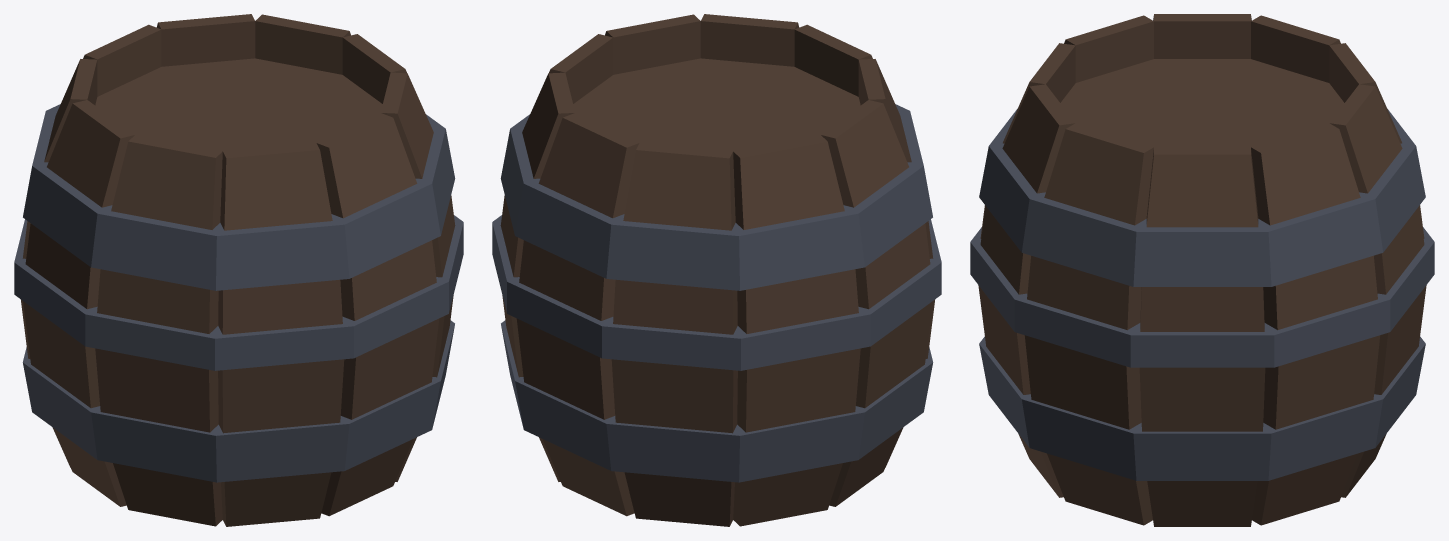
File: barrel.fbx
3 renders of one model, left to right at view 1: azimuth 30°, elevation 25°; view 2: azimuth 150°, elevation 25°; view 3: azimuth 270°, elevation 25°, orthographic.
Parts seen in each view (by area): view 1: barrel; view 2: barrel; view 3: barrel.
Boxes of the visible parts, x1,y1,x2,y2 form: barrel: (14,14,463,526); barrel: (492,14,941,526); barrel: (970,14,1434,526).
Size of the model in its own units: 96.5 by 89.8 by 101.
